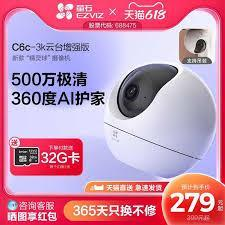maru: (106, 62, 214, 175)
